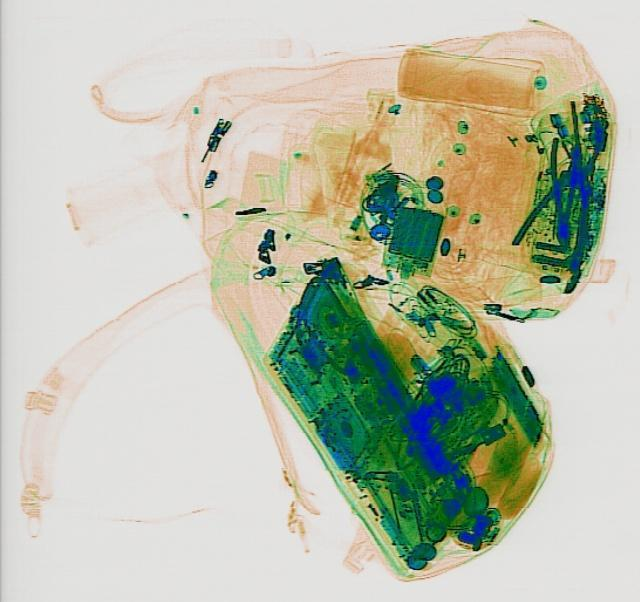Pliers: (505, 132, 627, 272), (544, 135, 582, 247)
